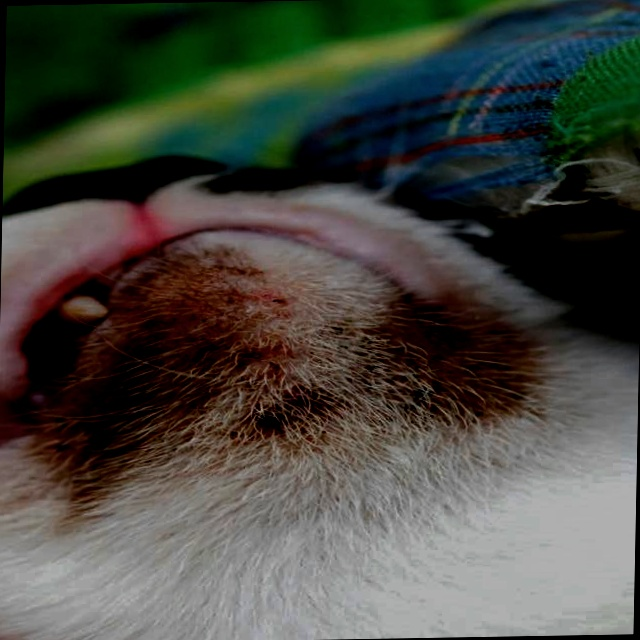acne: (208, 338, 345, 450)
